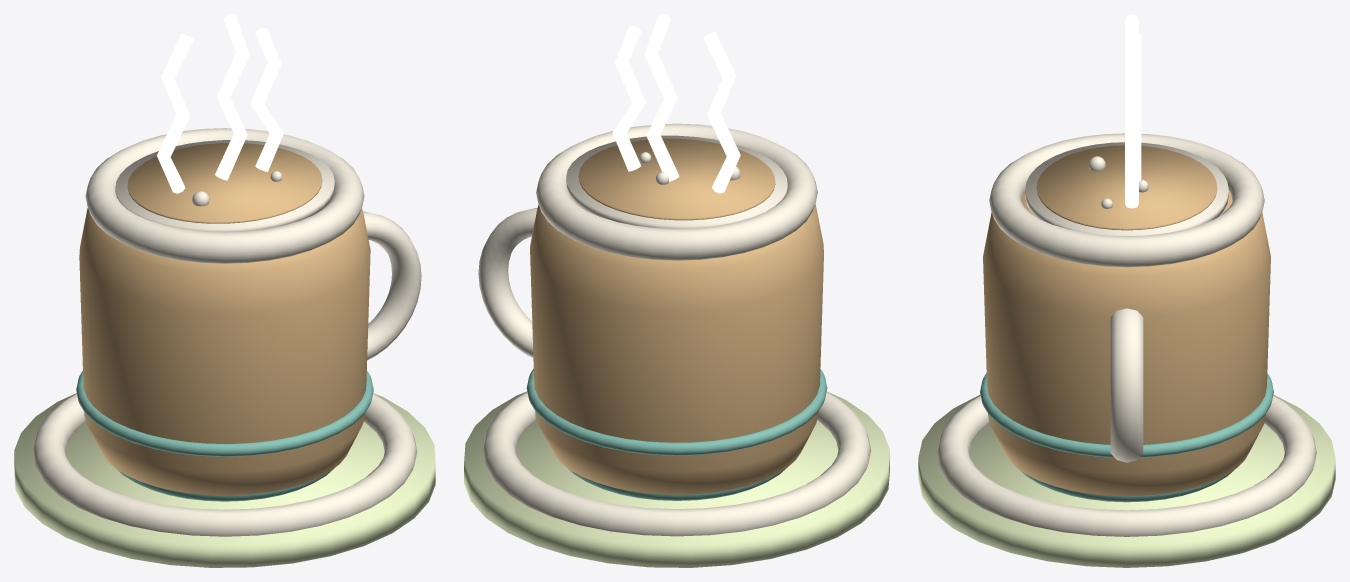
Rendered from LM_PROP_TehTarikLoading.glb.
The picture shows the model from 3 angles, left to right: view 1: azimuth 30°, elevation 25°; view 2: azimuth 150°, elevation 25°; view 3: azimuth 270°, elevation 25°; orthographic projection. The views are drawn at different scales.
Parts seen in each view (by area): view 1: LM_TehTarik_CupBody, LM_TehTarik_Saucer, LM_TehTarik_SaucerRim, LM_TehTarik_CupRim, LM_TehTarik_TeaSurface, LM_TehTarik_Handle, LM_TehTarik_CupAccent, LM_TehTarik_Foam, LM_TehTarik_Steam_02, LM_TehTarik_Steam_01, LM_TehTarik_Steam_03, LM_TehTarik_CupBase; view 2: LM_TehTarik_CupBody, LM_TehTarik_Saucer, LM_TehTarik_SaucerRim, LM_TehTarik_CupRim, LM_TehTarik_TeaSurface, LM_TehTarik_Handle, LM_TehTarik_CupAccent, LM_TehTarik_Foam, LM_TehTarik_Steam_02, LM_TehTarik_Steam_01, LM_TehTarik_Steam_03, LM_TehTarik_CupBase; view 3: LM_TehTarik_CupBody, LM_TehTarik_Saucer, LM_TehTarik_SaucerRim, LM_TehTarik_CupRim, LM_TehTarik_TeaSurface, LM_TehTarik_Handle, LM_TehTarik_CupAccent, LM_TehTarik_Foam, LM_TehTarik_Steam_03, LM_TehTarik_CupBase, LM_TehTarik_Steam_02.
Boxes of the visible parts, x1,y1,x2,y2 form: LM_TehTarik_CupBody: (79,208,370,495); LM_TehTarik_Saucer: (14,393,435,567); LM_TehTarik_SaucerRim: (32,393,417,536); LM_TehTarik_CupRim: (85,128,364,263); LM_TehTarik_TeaSurface: (127,143,322,223); LM_TehTarik_Handle: (363,211,421,360); LM_TehTarik_CupAccent: (76,371,373,456); LM_TehTarik_Foam: (115,140,334,232); LM_TehTarik_Steam_02: (215,14,249,180); LM_TehTarik_Steam_01: (157,33,193,193); LM_TehTarik_Steam_03: (250,28,283,171); LM_TehTarik_CupBase: (117,469,333,501); LM_TehTarik_CupBody: (530,204,823,494); LM_TehTarik_Saucer: (464,391,889,567); LM_TehTarik_SaucerRim: (482,392,871,536); LM_TehTarik_CupRim: (536,123,817,260); LM_TehTarik_TeaSurface: (578,138,775,220); LM_TehTarik_Handle: (478,208,537,357); LM_TehTarik_CupAccent: (526,369,827,455); LM_TehTarik_Foam: (566,135,787,228); LM_TehTarik_Steam_02: (644,14,679,181); LM_TehTarik_Steam_01: (703,32,740,193); LM_TehTarik_Steam_03: (612,26,645,171); LM_TehTarik_CupBase: (567,468,785,500); LM_TehTarik_CupBody: (983,190,1270,496); LM_TehTarik_Saucer: (918,394,1335,567); LM_TehTarik_SaucerRim: (937,395,1316,536); LM_TehTarik_CupRim: (989,133,1264,267); LM_TehTarik_TeaSurface: (1036,145,1217,230); LM_TehTarik_Handle: (1110,308,1143,462); LM_TehTarik_CupAccent: (980,373,1273,457); LM_TehTarik_Foam: (1025,142,1228,235); LM_TehTarik_Steam_03: (1125,68,1138,208); LM_TehTarik_CupBase: (1020,470,1233,502); LM_TehTarik_Steam_02: (1127,33,1141,181).
Size of the model in its own units: 1.73 by 2.01 by 1.68.
